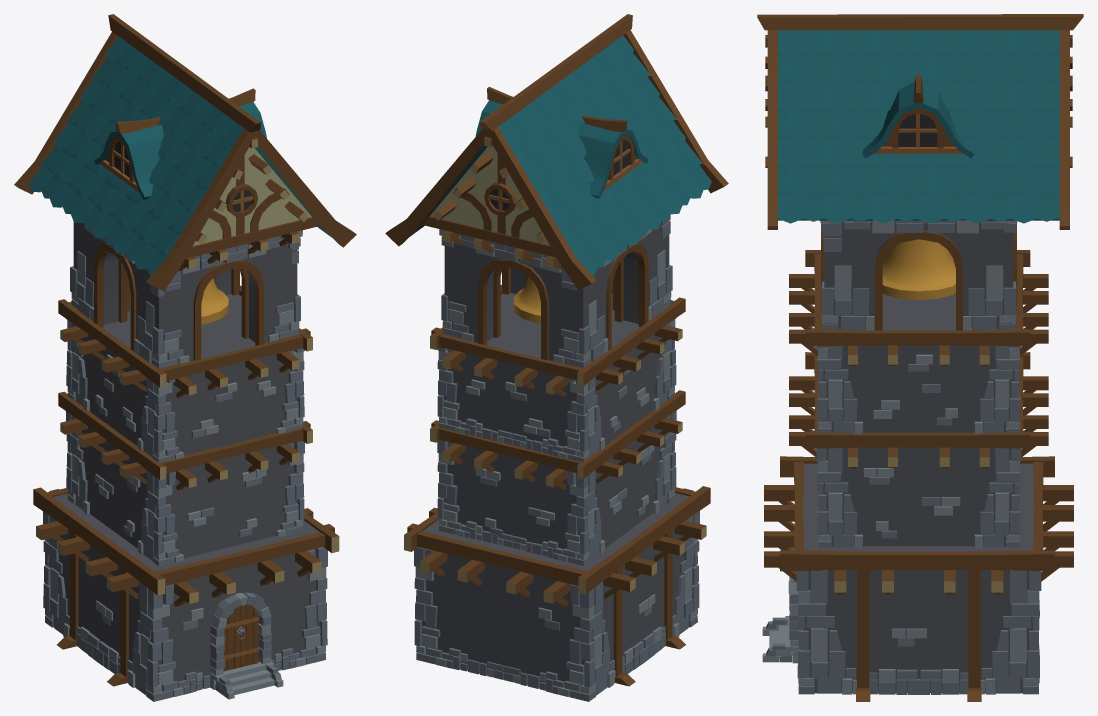
Rendered from Bell Tower.glb.
3 views of the same model, side by side, from view 1: azimuth 30°, elevation 25°; view 2: azimuth 150°, elevation 25°; view 3: azimuth 270°, elevation 25° (orthographic). The views are drawn at different scales.
Parts seen in each view (by area): view 1: Bell Tower; view 2: Bell Tower; view 3: Bell Tower.
Boxes of the visible parts, x1,y1,x2,y2 form: Bell Tower: [14, 14, 356, 701]; Bell Tower: [385, 14, 728, 701]; Bell Tower: [757, 14, 1083, 701].
Size of the model in its own units: 1.94 by 4.76 by 2.23.
